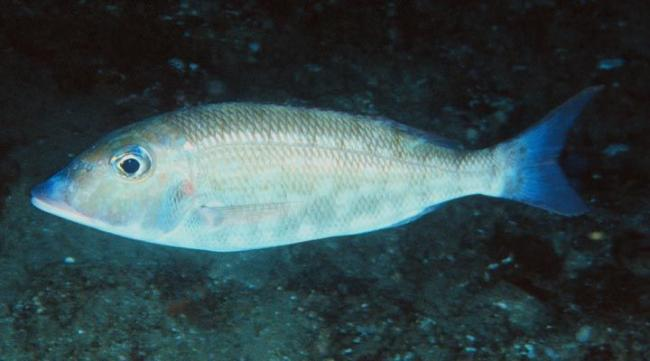fish: (30, 85, 604, 253)
